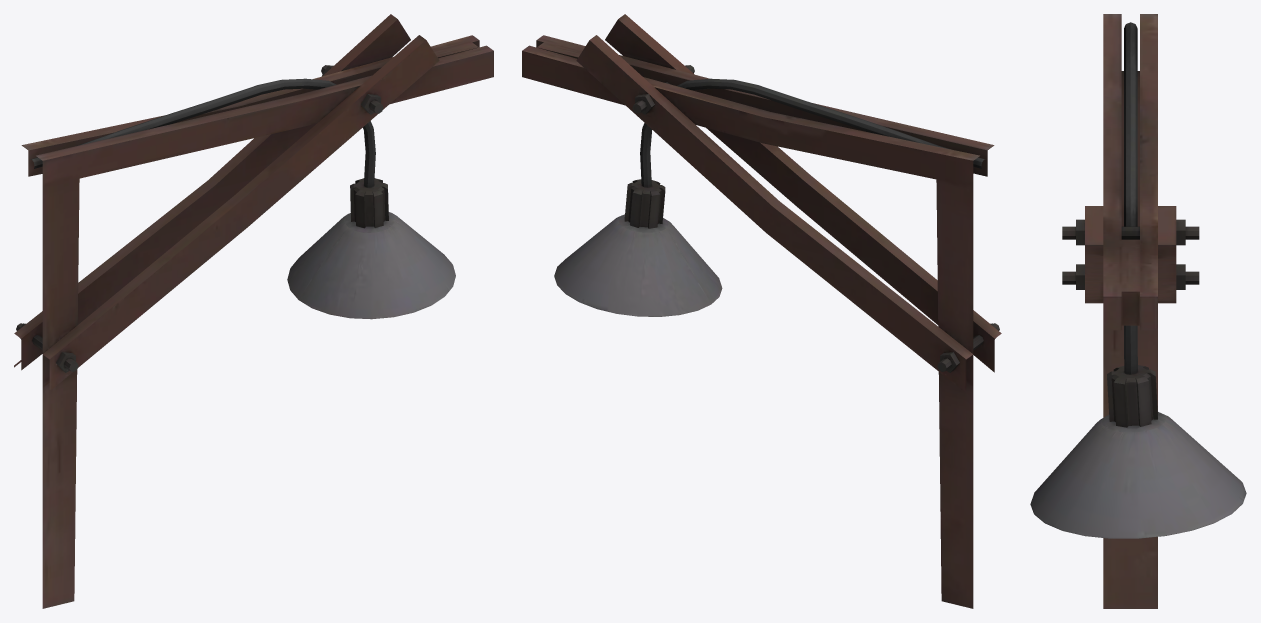
3 views of the same model, side by side, from view 1: azimuth 30°, elevation 25°; view 2: azimuth 150°, elevation 25°; view 3: azimuth 270°, elevation 25° (orthographic). The views are drawn at different scales.
Visible parts, largest first — view 1: body0_model0_lod0_mesh0; view 2: body0_model0_lod0_mesh0; view 3: body0_model0_lod0_mesh0.
Part boxes in pixels (x1=…): body0_model0_lod0_mesh0: x1=14, y1=14, x2=493, y2=608; body0_model0_lod0_mesh0: x1=522, y1=14, x2=1001, y2=608; body0_model0_lod0_mesh0: x1=1030, y1=14, x2=1246, y2=608.
Bounding box in the file's own units: 110 × 112 × 35.53.
1 material, 1 textured.
